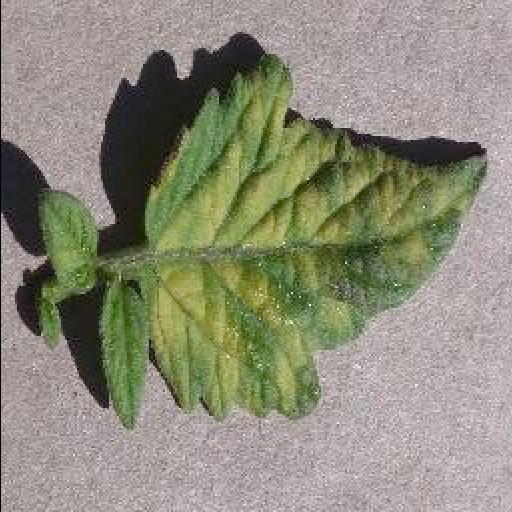disease_tomato: (98, 54, 492, 434)
